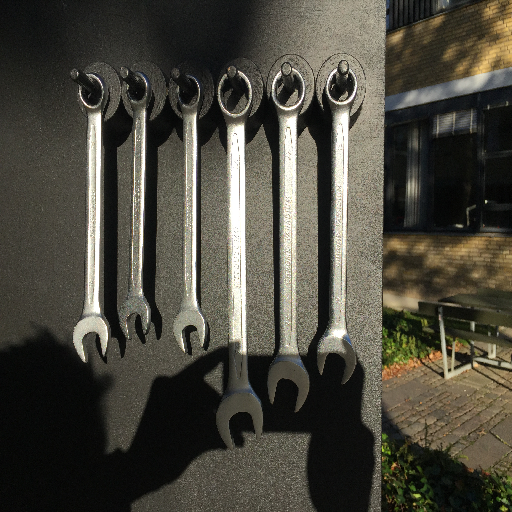bottom: (216, 389, 265, 452), (265, 348, 311, 413), (314, 326, 358, 386), (71, 314, 112, 366), (172, 306, 208, 356), (116, 295, 152, 340)
top: (215, 68, 256, 121), (270, 67, 308, 114), (323, 65, 359, 110), (75, 71, 110, 112), (175, 72, 203, 115), (124, 69, 153, 109)
